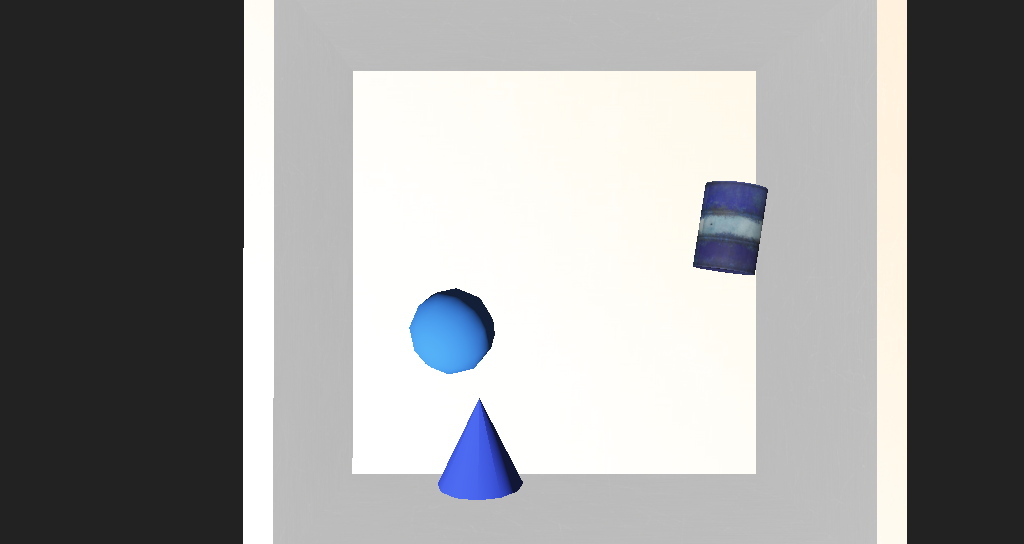cone: (610, 220, 670, 267)
cylinder: (421, 332, 482, 384)
sphere: (401, 279, 461, 322)
